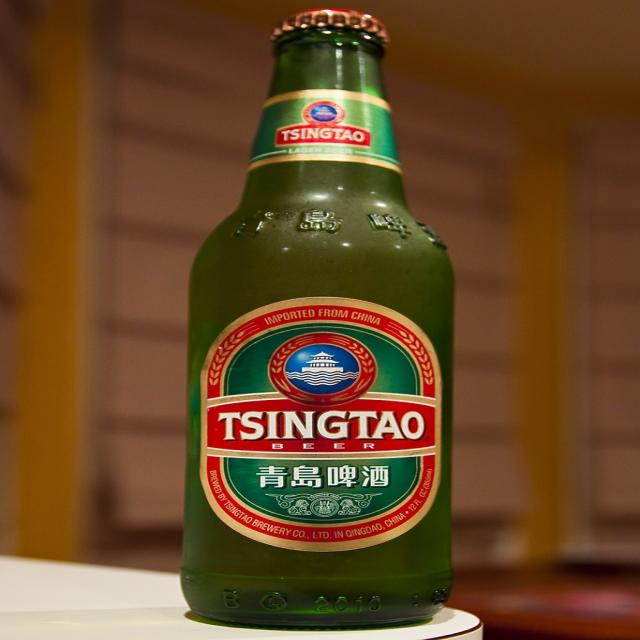tsingtao: (197, 297, 441, 553), (268, 97, 378, 151)
